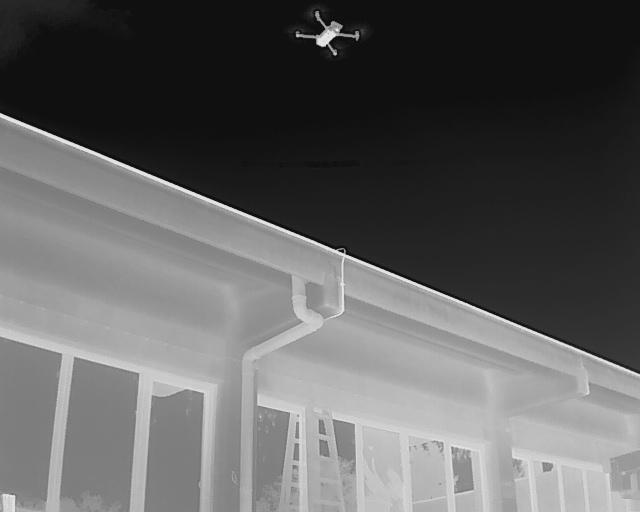drone: (284, 8, 364, 72)
